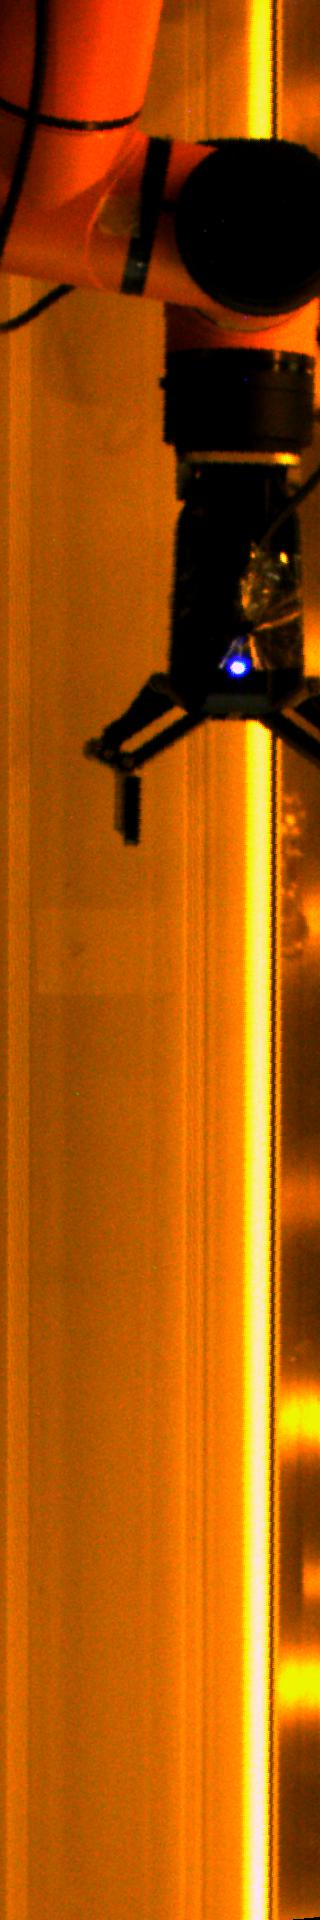keyPoint_1: (224, 651, 254, 682)
